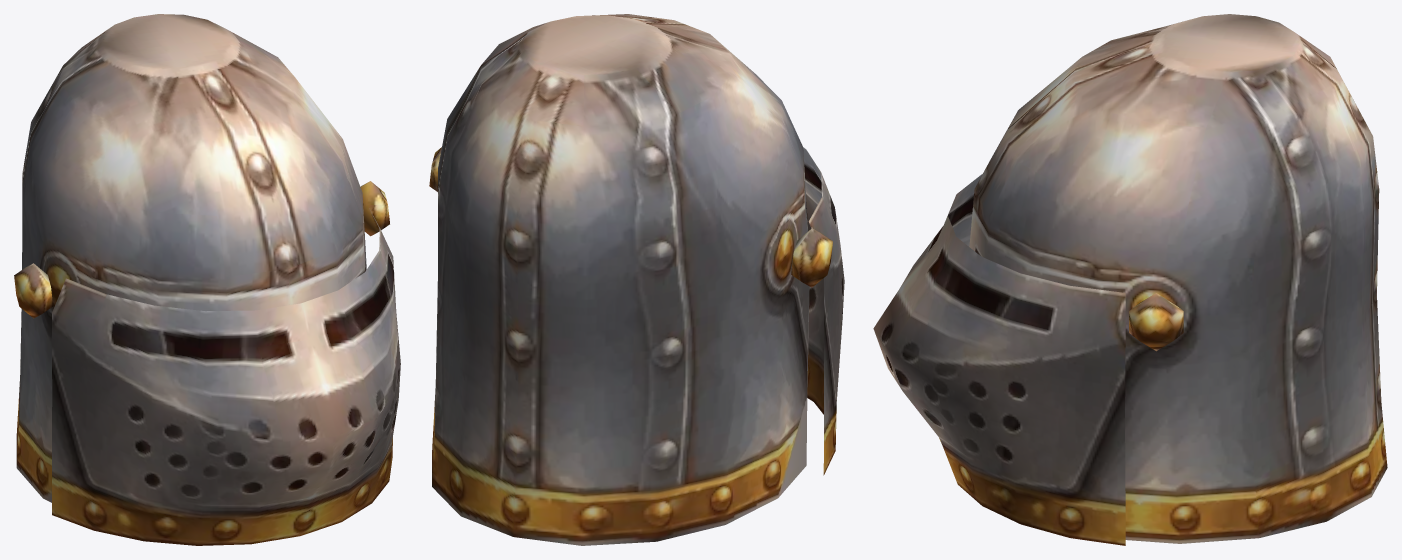
File: helm_visor.glb
The picture shows the model from 3 angles, left to right: view 1: azimuth 30°, elevation 25°; view 2: azimuth 150°, elevation 25°; view 3: azimuth 270°, elevation 25°; orthographic projection. The views are drawn at different scales.
Visible parts, largest first — view 1: helm_visor; view 2: helm_visor; view 3: helm_visor.
Boxes of the visible parts, left/top/right/bottom form: helm_visor: left=14, top=14, right=400, bottom=545; helm_visor: left=429, top=14, right=844, bottom=545; helm_visor: left=873, top=14, right=1387, bottom=545.
Size of the model in its own units: 0.3033 by 0.3197 by 0.3508.
Materials: 1 (1 with a texture image).
